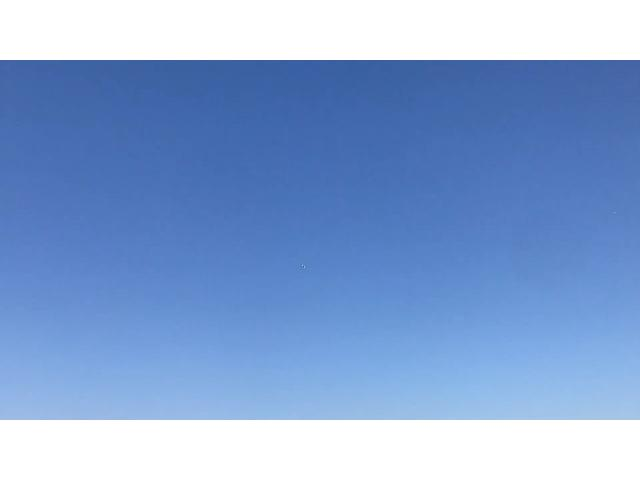Anti-Drone: (290, 251, 320, 277)
